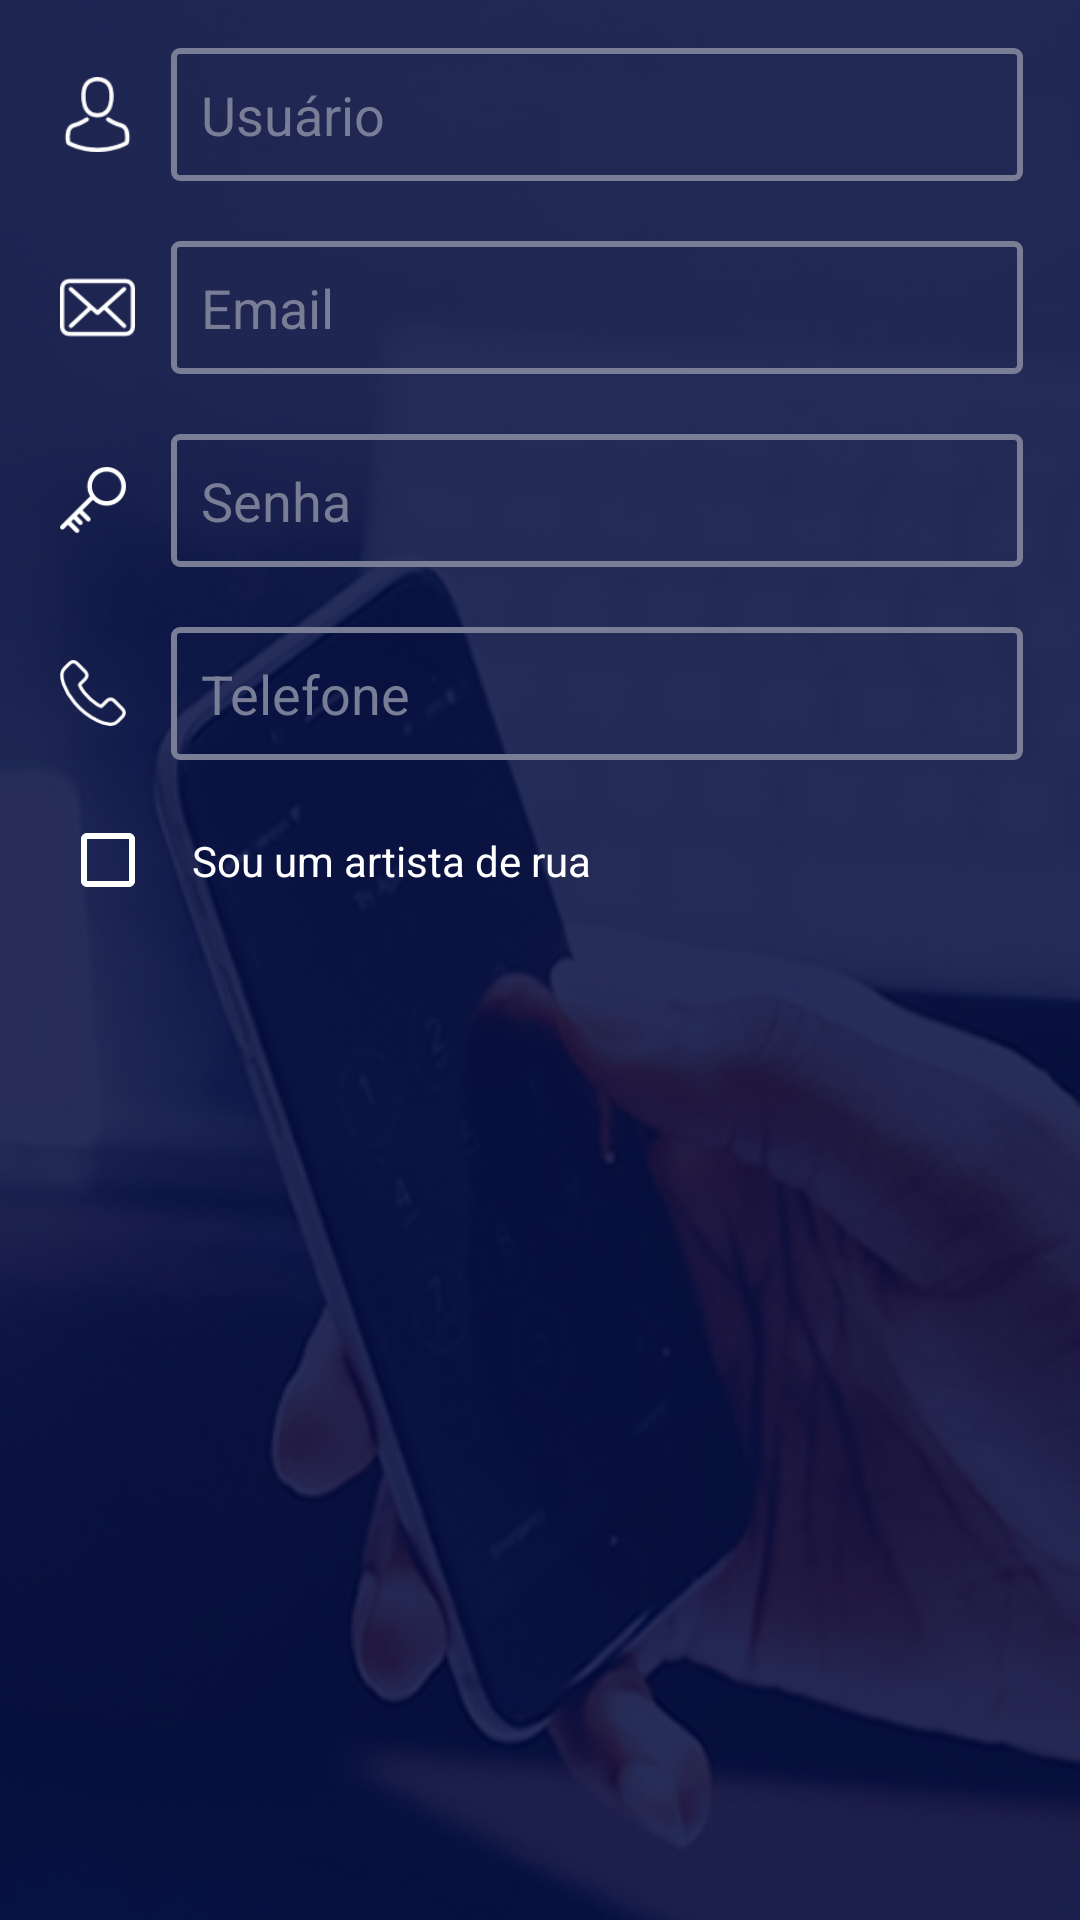

Icon bounding boxes for this 1080 × 1920 phone screenshot, format (x1, y1, x2, y2):
envelope: (60, 278, 135, 337)
key: (60, 467, 126, 533)
telephone: (60, 660, 126, 726)
